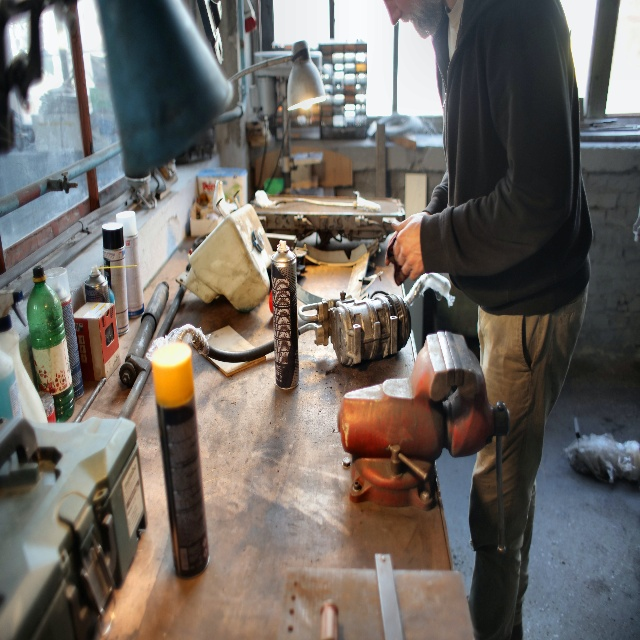Sin_guantes: (391, 213, 424, 281)
